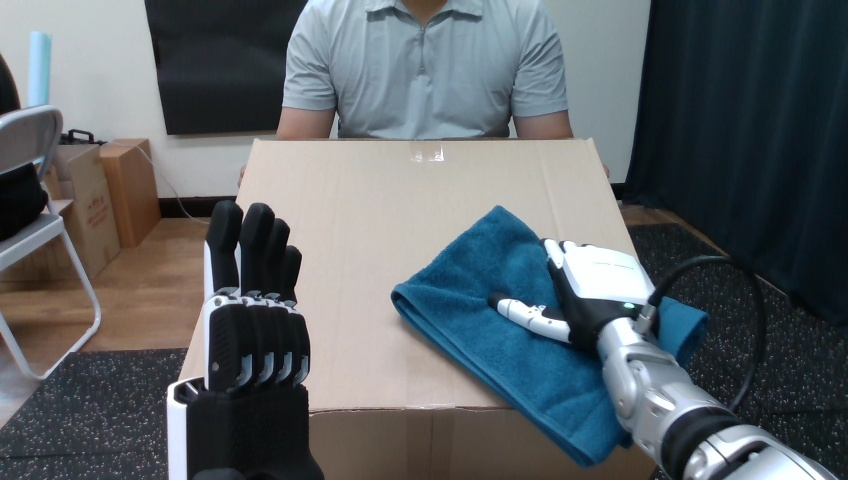left robot hand: (167, 201, 322, 478), (737, 280, 847, 478), (664, 265, 755, 402)
